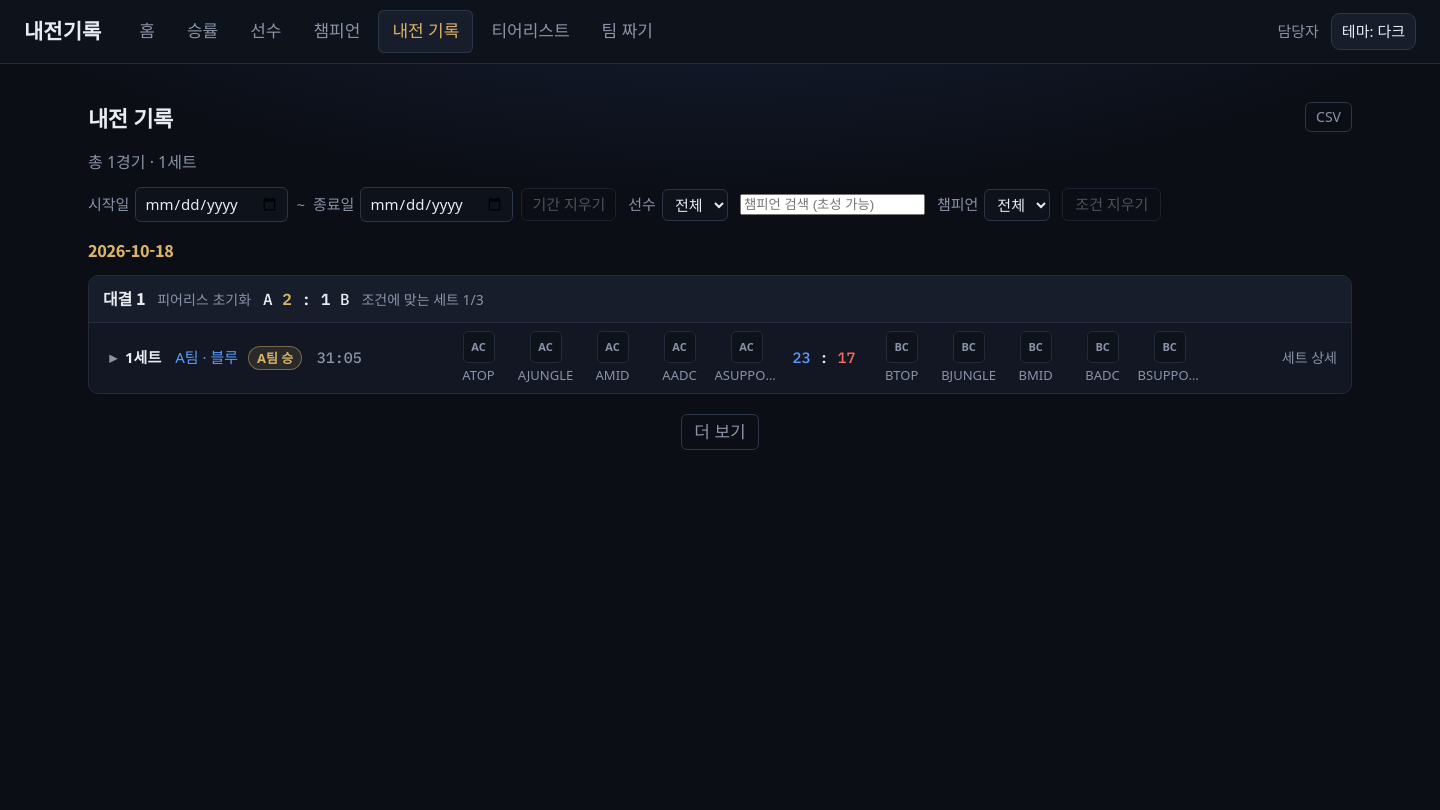
Scenario: RecordsPage › 더 보기는 nextBefore를 before로 보내고 다음 묶음을 이어 붙인다
Check: the link "대결 1" is shown, box top-left (103, 286), bottom-right (145, 310)
What coordinates should you click on to do the following:
click the button "더 보기"
I would click on:
 (720, 432)
Its box is top-left (681, 414), bottom-right (759, 450).
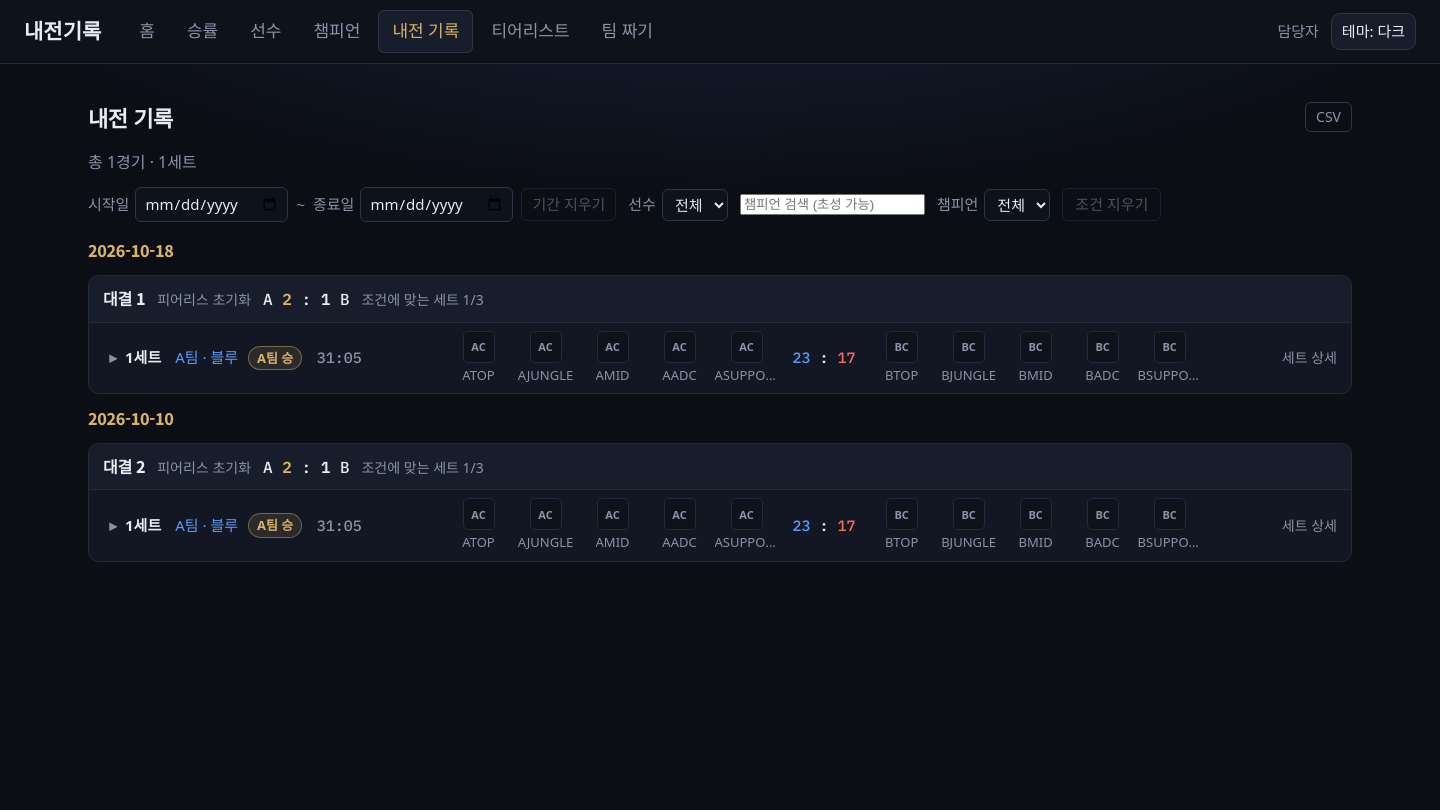
Check: the link "대결 1" is shown, box top-left (103, 286), bottom-right (145, 310)
Check: the link "대결 2" is shown, box top-left (103, 454), bottom-right (145, 478)
Check: the button "더 보기" is gone
